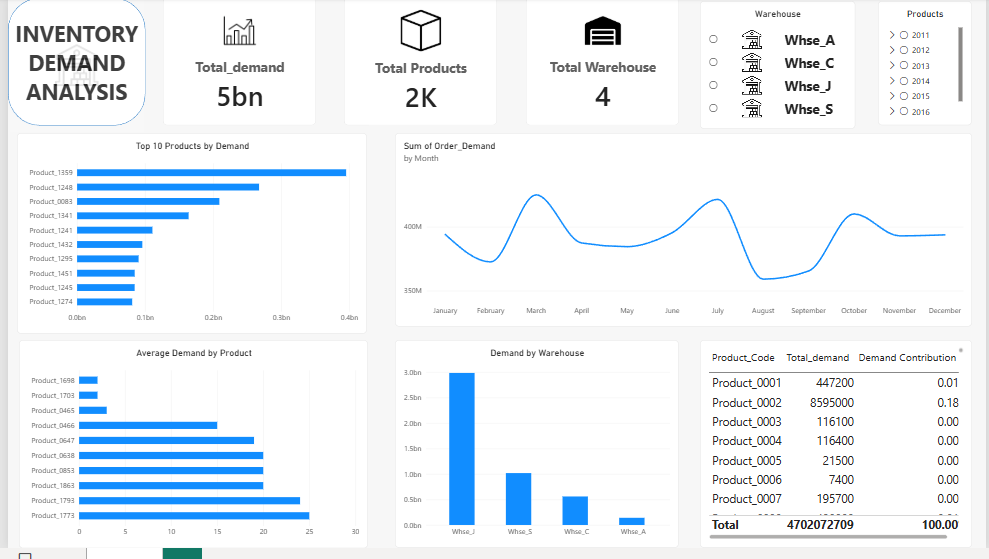

What the dashboard file says about the page in this screenshot:
{"tool":"powerbi","page":{"name":"Page 1","canvas":[1920,1080],"ordinal":0},"visuals":[{"type":"cardVisual","fields":{"Data":["Cleaned Inventory Project Datasset.Total Product"]},"box":[658.8,0,300.2,250.6],"z":0},{"type":"cardVisual","fields":{"Data":["Cleaned Inventory Project Datasset.Total Warehouse"]},"box":[1017.4,0,300.2,250.6],"z":1000},{"type":"cardVisual","fields":{"Data":["Cleaned Inventory Project Datasset.Total_demand"]},"box":[304.6,0,300.2,250.6],"z":2000},{"type":"clusteredBarChart","title":"Top 10 Products by Demand","fields":{"Category":["Cleaned Inventory Project Datasset.Product_Code"],"Y":["Sum(Cleaned Inventory Project Datasset.Order_Demand)"]},"box":[18.6,264.3,687.5,394.3],"z":3000},{"type":"clusteredColumnChart","title":"Demand by Warehouse","fields":{"Category":["Cleaned Inventory Project Datasset.Warehouse"],"Y":["Sum(Cleaned Inventory Project Datasset.Order_Demand)"]},"box":[759.7,671,557.3,408.2],"z":4000},{"type":"clusteredBarChart","title":"Average Demand by Product","fields":{"Category":["Cleaned Inventory Project Datasset.Product_Code"],"Y":["Sum(Cleaned Inventory Project Datasset.Order_Demand)"]},"box":[20.6,671,685.4,408.8],"z":5000},{"type":"listSlicer","title":"Warehouse","fields":{"Values":["Cleaned Inventory Project Datasset.Warehouse"]},"box":[1358.6,6.5,304.6,250.6],"z":6000},{"type":"listSlicer","title":"Products","fields":{"Values":["Cleaned Inventory Project Datasset.Date.Variation.Date Hierarchy.Year","Cleaned Inventory Project Datasset.Date.Variation.Date Hierarchy.Quarter","Cleaned Inventory Project Datasset.Date.Variation.Date Hierarchy.Month","Cleaned Inventory Project Datasset.Date.Variation.Date Hierarchy.Day"]},"box":[1708.6,6.5,183.6,244.1],"z":7000},{"type":"shape","box":[0,0,270,250.6],"z":8000},{"type":"textbox","box":[0,41,270,209.5],"z":9000},{"type":"image","box":[0,0,270,263.5],"z":9001},{"type":"tableEx","fields":{"Values":["Cleaned Inventory Project Datasset.Product_Code","Cleaned Inventory Project Datasset.Total_demand","Cleaned Inventory Project Datasset.Demand Contribution %"]},"box":[1358.6,671.8,533.5,408.2],"z":9002},{"type":"lineChart","fields":{"Category":["Cleaned Inventory Project Datasset.Date.Variation.Date Hierarchy.Month"],"Y":["Sum(Cleaned Inventory Project Datasset.Order_Demand)"]},"box":[759.7,264.3,1133.4,379.9],"z":9003}]}

Visuals, with their boxes in screenshot pixels (x1, y1, x2, y2), scaled from the page's 1920x1080 canvas onto the 989x559 screenshot:
cardVisual - Cleaned Inventory Project Datasset.Total Product: region(339, 0, 494, 130)
cardVisual - Cleaned Inventory Project Datasset.Total Warehouse: region(524, 0, 679, 130)
cardVisual - Cleaned Inventory Project Datasset.Total_demand: region(157, 0, 312, 130)
"Top 10 Products by Demand" clusteredBarChart: region(10, 137, 364, 341)
"Demand by Warehouse" clusteredColumnChart: region(391, 347, 678, 558)
"Average Demand by Product" clusteredBarChart: region(11, 347, 364, 558)
"Warehouse" listSlicer: region(700, 3, 857, 133)
"Products" listSlicer: region(880, 3, 975, 130)
shape: region(0, 0, 139, 130)
textbox: region(0, 21, 139, 130)
image: region(0, 0, 139, 136)
tableEx - Cleaned Inventory Project Datasset.Product_Code x Cleaned Inventory Project Datasset.Total_demand: region(700, 348, 975, 558)
lineChart - Cleaned Inventory Project Datasset.Date.Variation.Date Hierarchy.Month x Sum(Cleaned Inventory Project Datasset.Order_Demand): region(391, 137, 975, 333)
